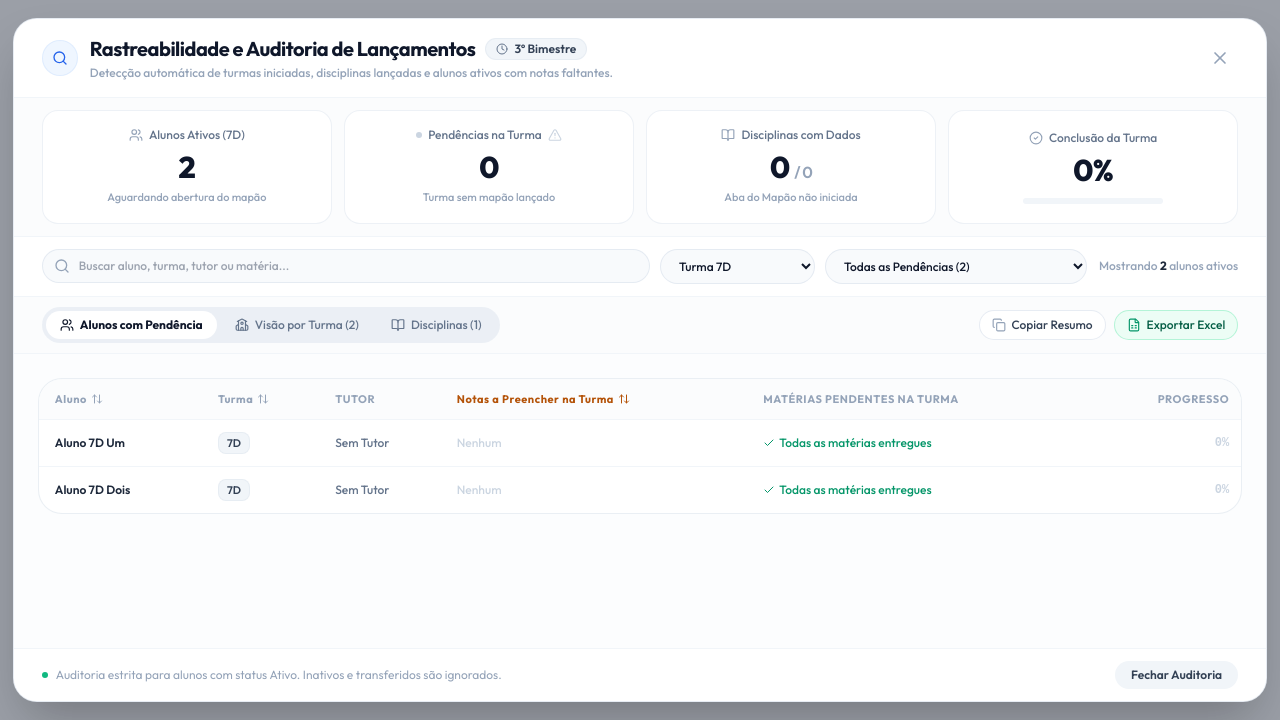
Test case: LaunchTraceabilityModal — Rastreabilidade e Auditoria de Lançamentos › classifica turma sem mapão como Sem Mapão e não gera furos falsos para seus alunos
Click the button "Visão por Turma (2)" at (297, 325), box [221,311,373,339]
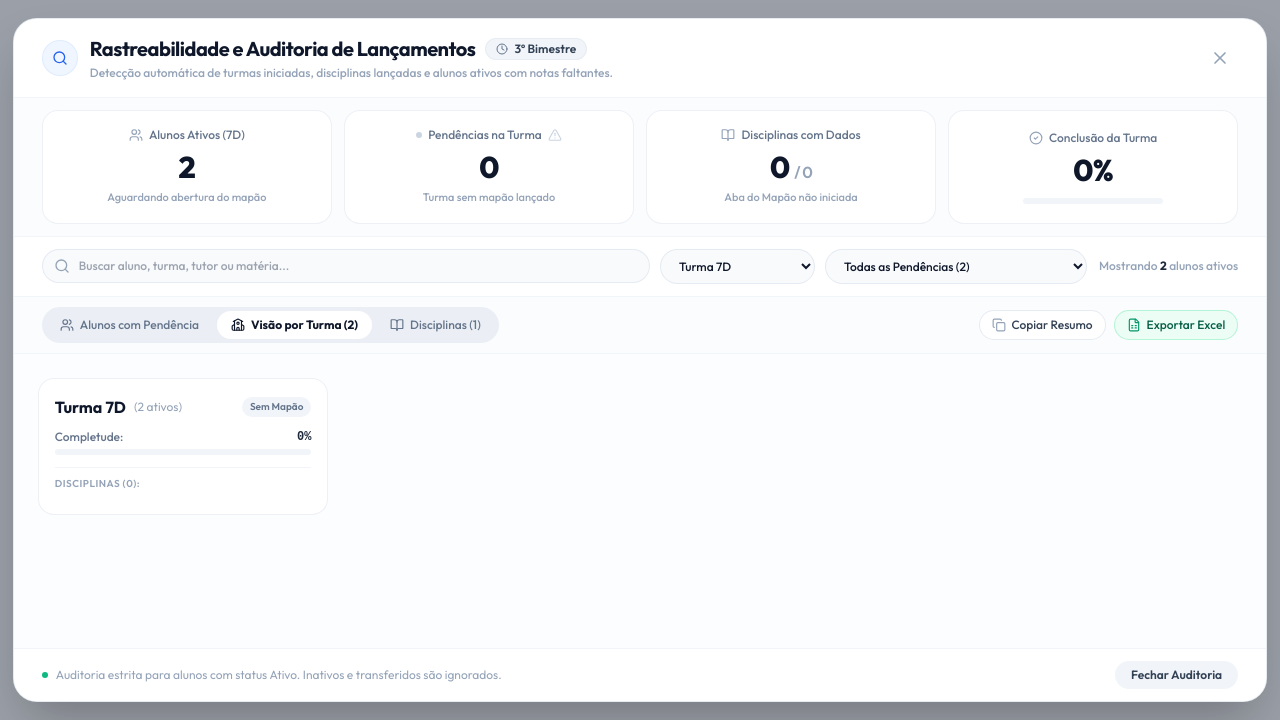
Check: the text "Sem Mapão" is shown, box [242,397,311,417]
# Na aba Alunos com Pendência, filtrando por Furos, nenhum aluno do 7D deve ser apontado como furo
Click the button "Alunos com Pendência" at (129, 325), box [46,311,213,339]
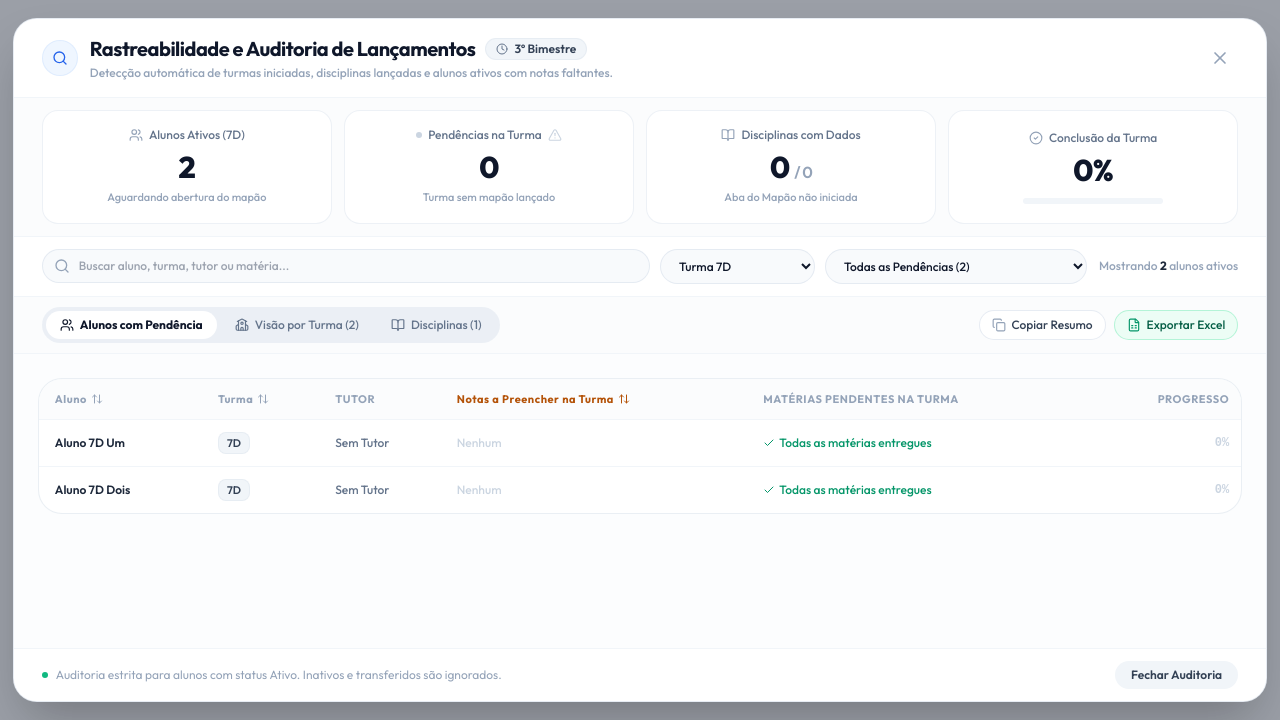
Select "Apenas Notas a Preencher no Grupo (0)" in the dropdown named "Tipo de Pendência" at (956, 266), box [825,249,1087,284]
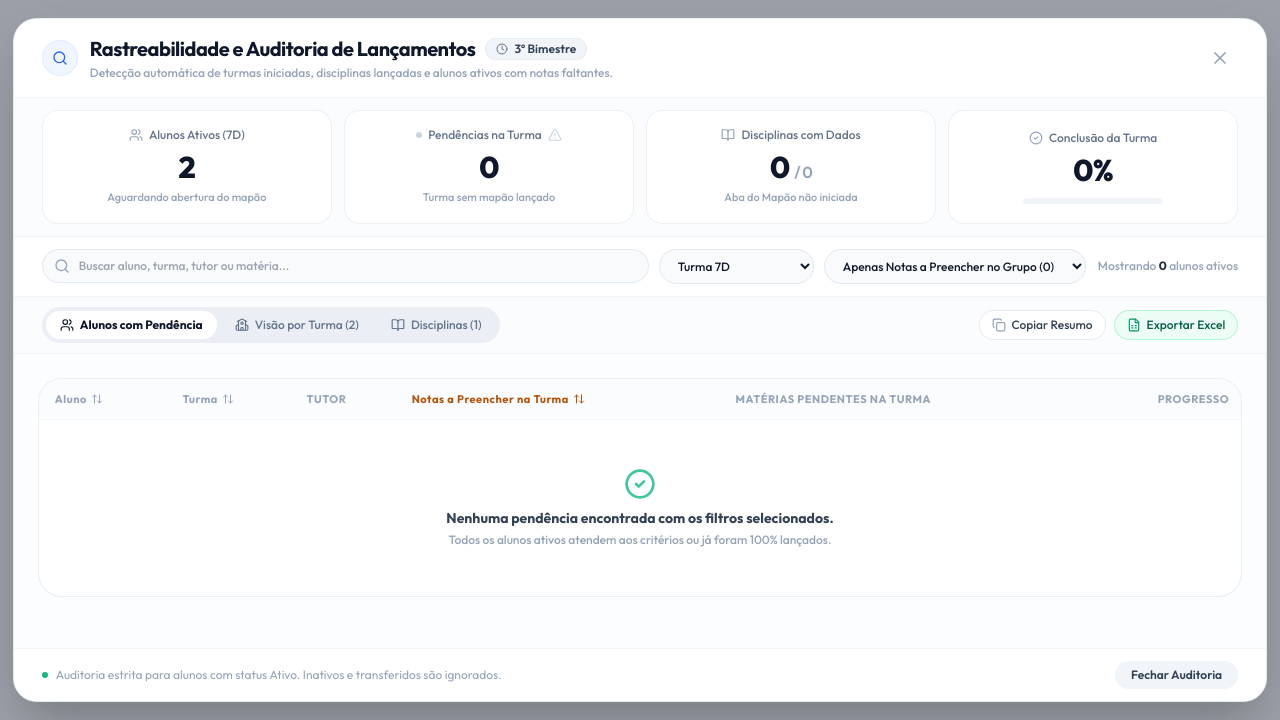
Check: the text "Nenhuma pendência encontrada com os filtros selecionados." is shown, box [446,509,834,527]
